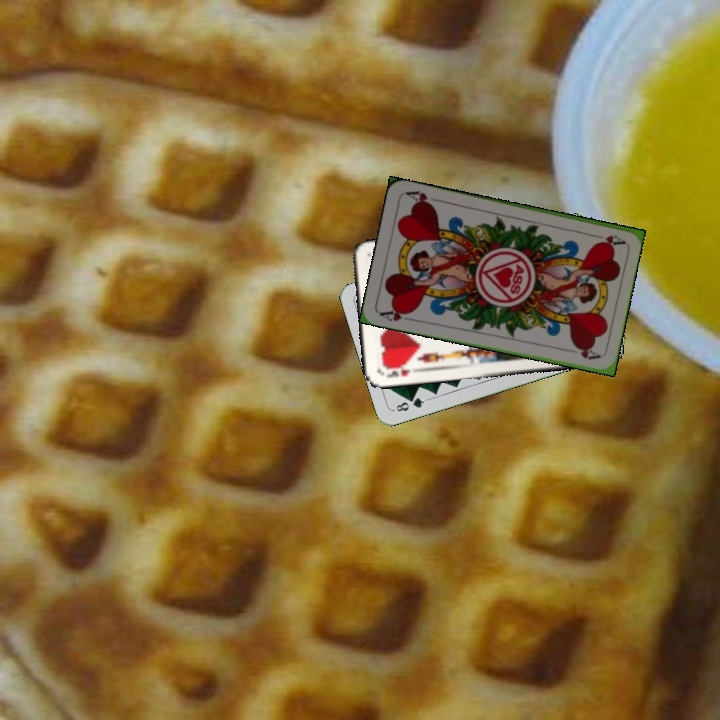G8: (390, 393, 430, 414)
HA: (376, 304, 417, 324), (586, 230, 626, 248)
HK: (378, 361, 419, 380)
